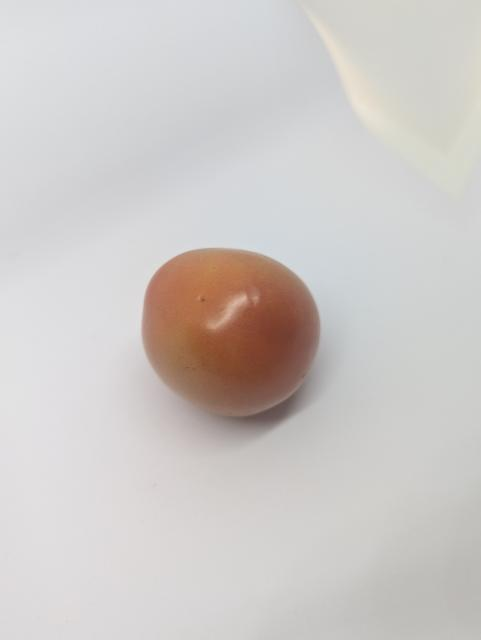red: (129, 242, 333, 424)
